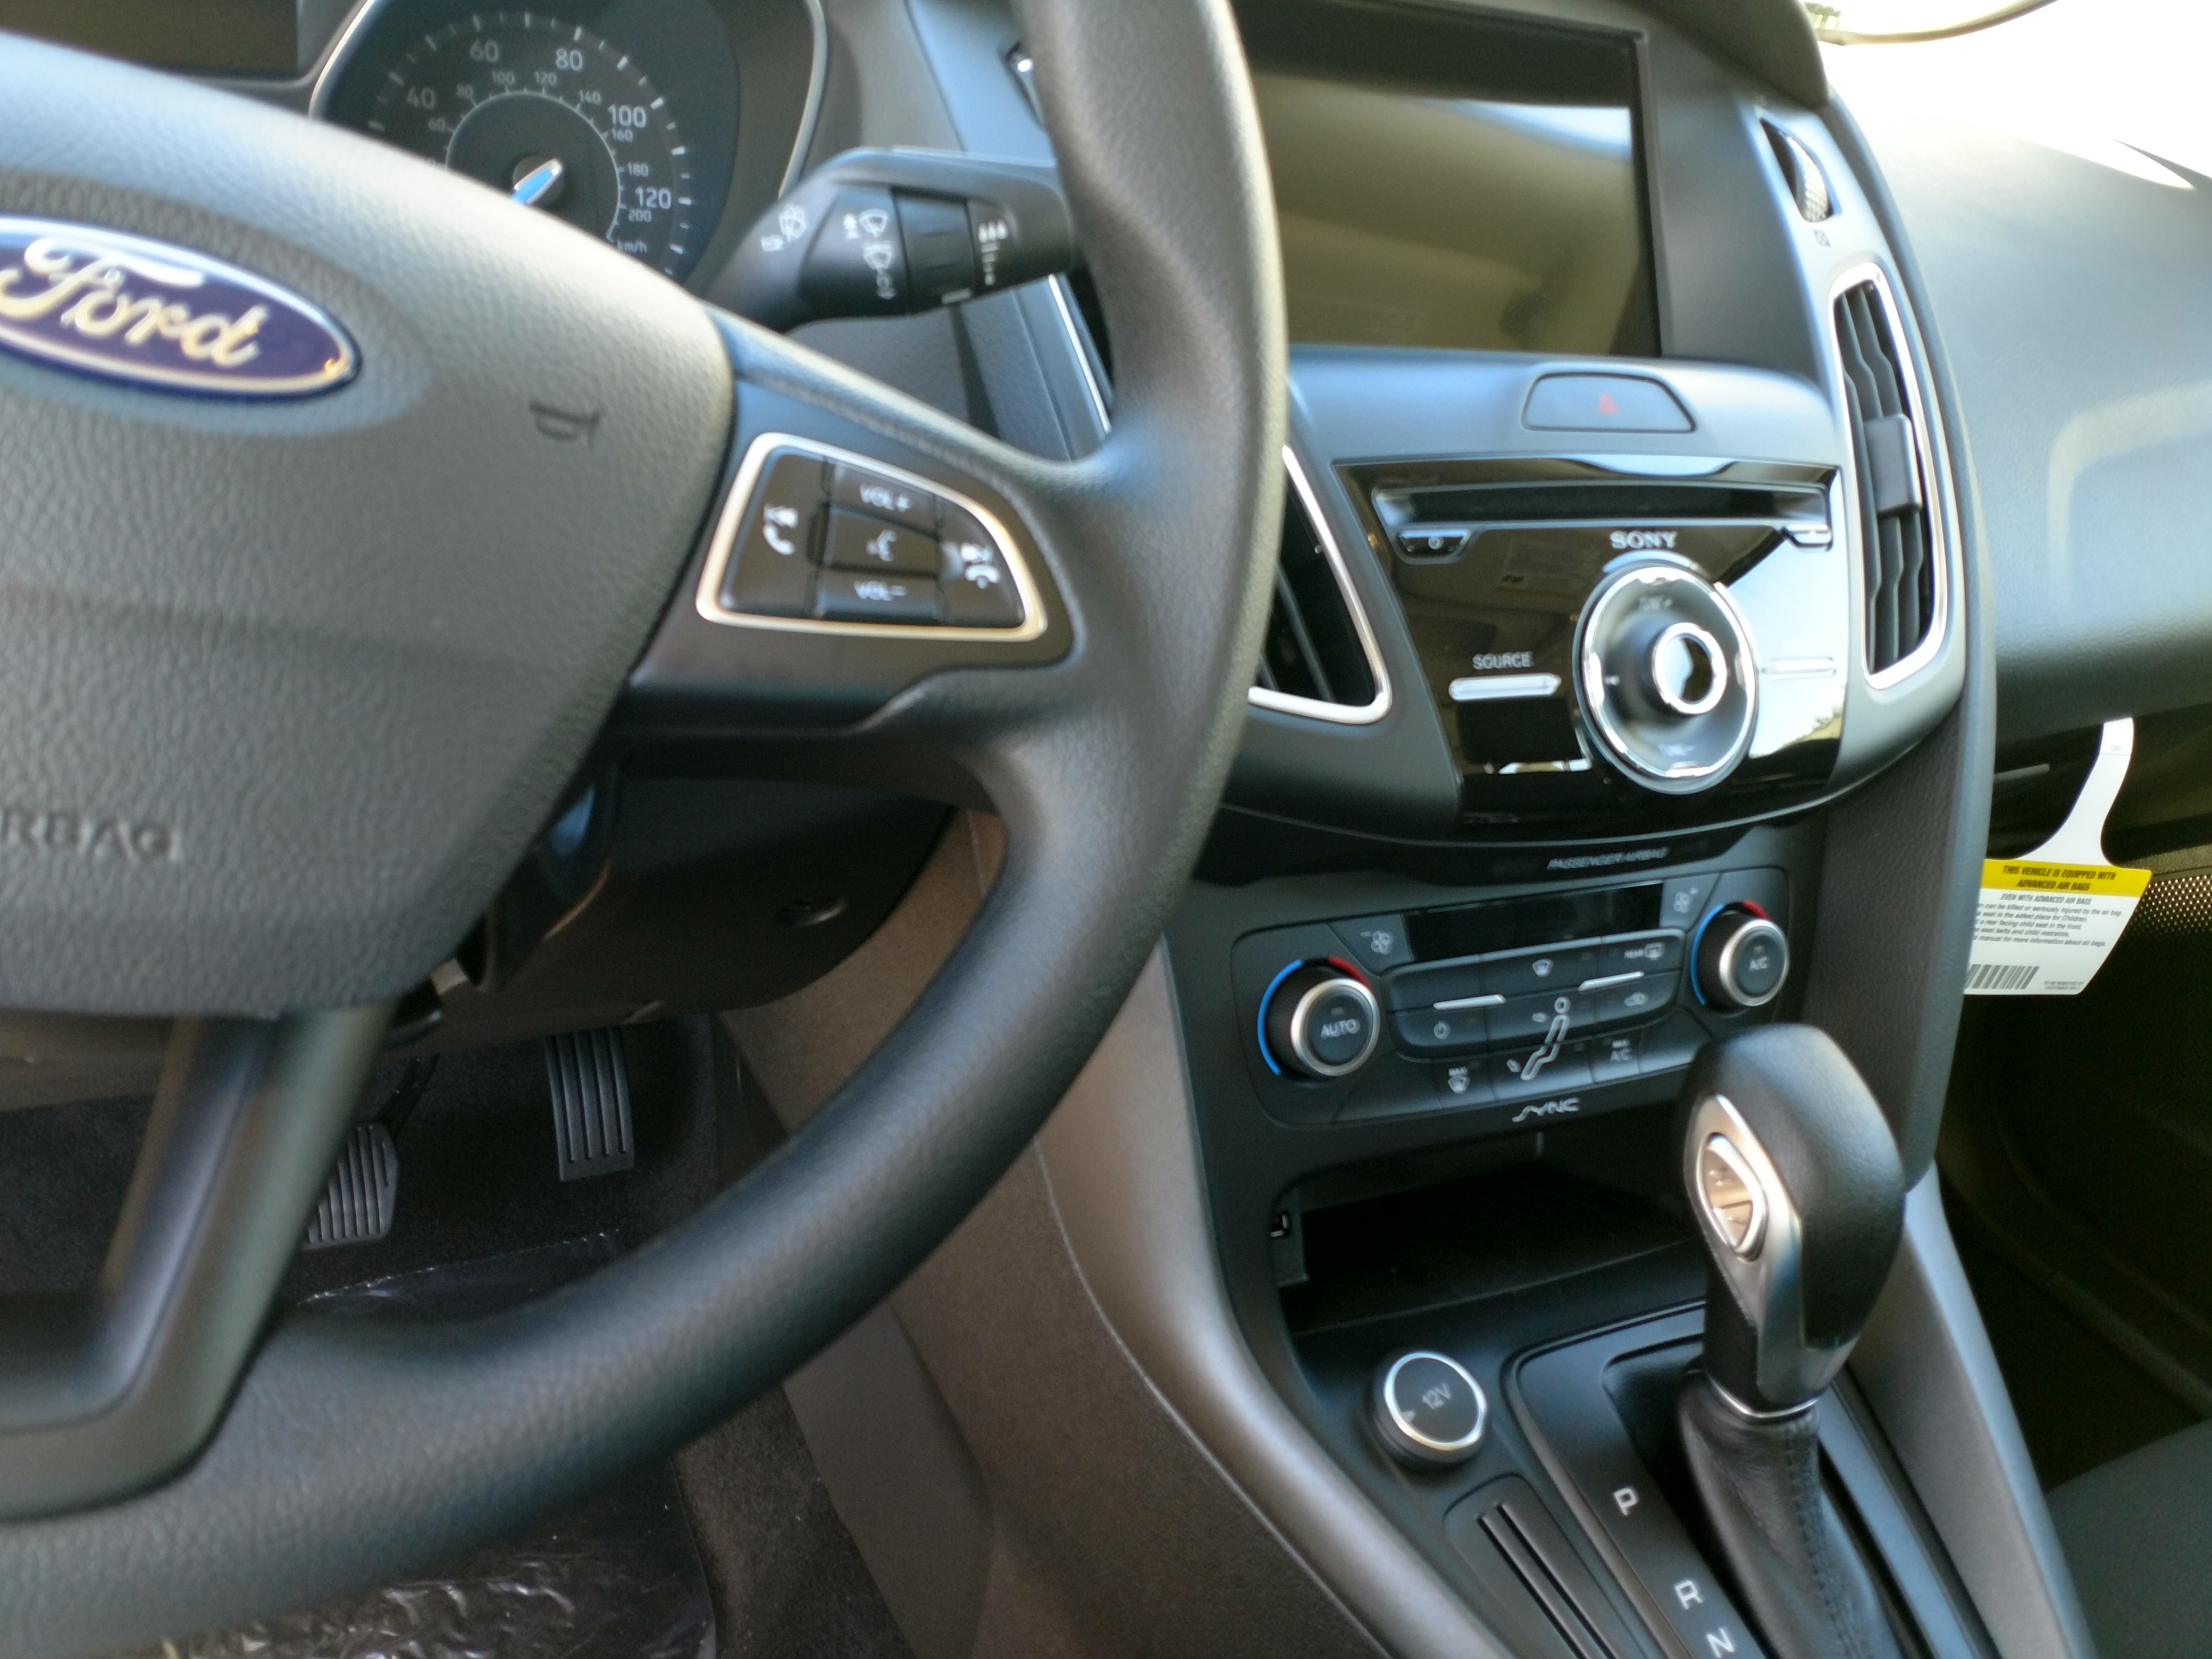Ford: (3, 185, 371, 437)
